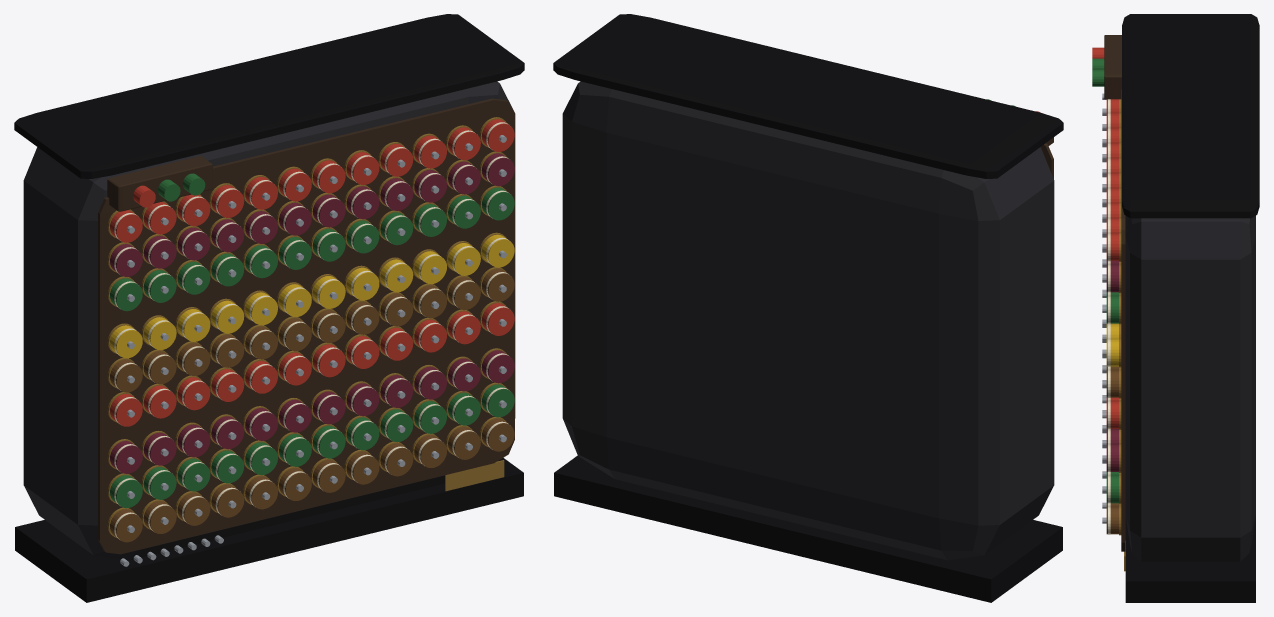
File: bombe.glb
3 views of the same model, side by side, from view 1: azimuth 30°, elevation 25°; view 2: azimuth 150°, elevation 25°; view 3: azimuth 270°, elevation 25° (orthographic). The views are drawn at different scales.
Visible parts, largest first — view 1: plate, lip, cabinet, drums_II, drums_III, drums_I, drums_V, plinth, rings, bands, drums_IV, nuts (+3 smaller); view 2: cabinet, lip, plinth; view 3: cabinet, lip, plinth, drums_I, plate, rings, bands, nuts, indicator, drums_II, drums_III, drums_V (+2 smaller).
Part boxes in pixels (x1,y1,x2,y2): plate: (98,98,514,554); lip: (14,14,524,178); cabinet: (23,81,515,560); drums_II: (110,153,514,473); drums_III: (110,187,514,507); drums_I: (110,119,514,426); drums_V: (110,269,514,542); plinth: (15,457,523,602); rings: (107,117,506,537); bands: (114,122,510,539); drums_IV: (110,234,514,358); nuts: (127,135,506,532); cabinet: (562,81,1054,560); lip: (553,14,1063,178); plinth: (554,455,1062,602); cabinet: (1125,216,1255,561); lip: (1122,14,1259,218); plinth: (1125,516,1255,602); drums_I: (1106,99,1118,428); plate: (1121,89,1125,551); rings: (1119,99,1121,535); bands: (1108,99,1110,534); nuts: (1102,93,1106,523); indicator: (1104,35,1121,99); drums_II: (1106,261,1118,471); drums_III: (1106,292,1118,503); drums_V: (1106,366,1118,534).
Size of the model in its own units: 19.7 by 18.28 by 7.05.
